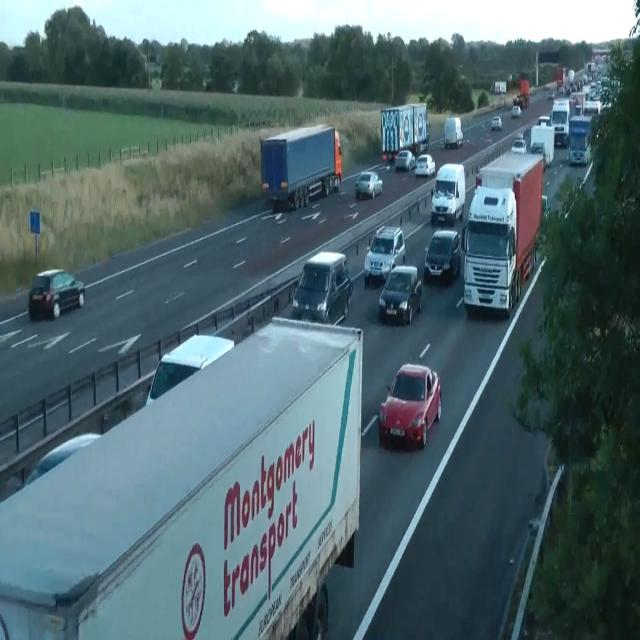bus: (145, 333, 235, 407), (378, 363, 442, 449), (23, 432, 101, 488), (29, 268, 85, 320), (378, 265, 422, 324), (290, 582, 328, 639), (355, 171, 383, 199), (394, 150, 416, 172), (415, 154, 435, 178), (511, 134, 526, 154), (528, 517, 540, 535), (541, 194, 549, 220), (490, 114, 502, 130), (511, 105, 522, 118), (538, 115, 550, 126), (548, 90, 554, 100)
jeep: (292, 250, 352, 325), (364, 224, 406, 285), (430, 162, 466, 224), (423, 228, 461, 282)
minibus: (0, 316, 363, 639), (461, 150, 545, 318), (260, 124, 342, 212), (380, 102, 430, 162), (549, 98, 579, 148), (568, 115, 592, 165), (528, 122, 554, 167), (444, 116, 463, 150), (518, 79, 530, 108), (490, 80, 506, 93)
